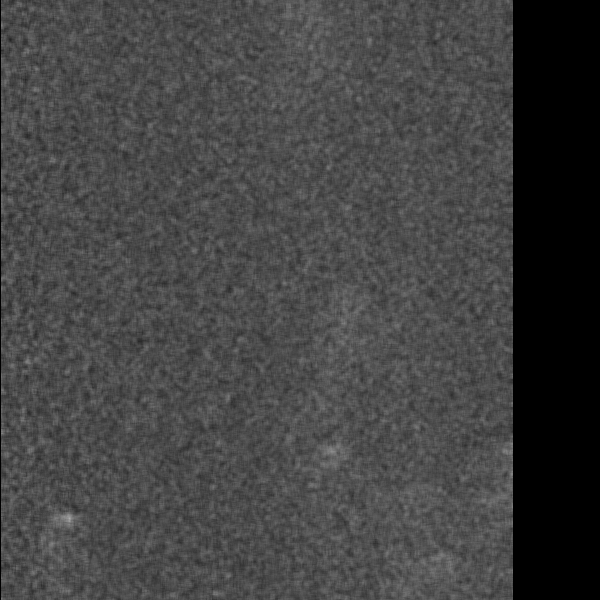spark: (48, 507, 81, 545), (319, 438, 340, 472), (428, 546, 452, 566)
